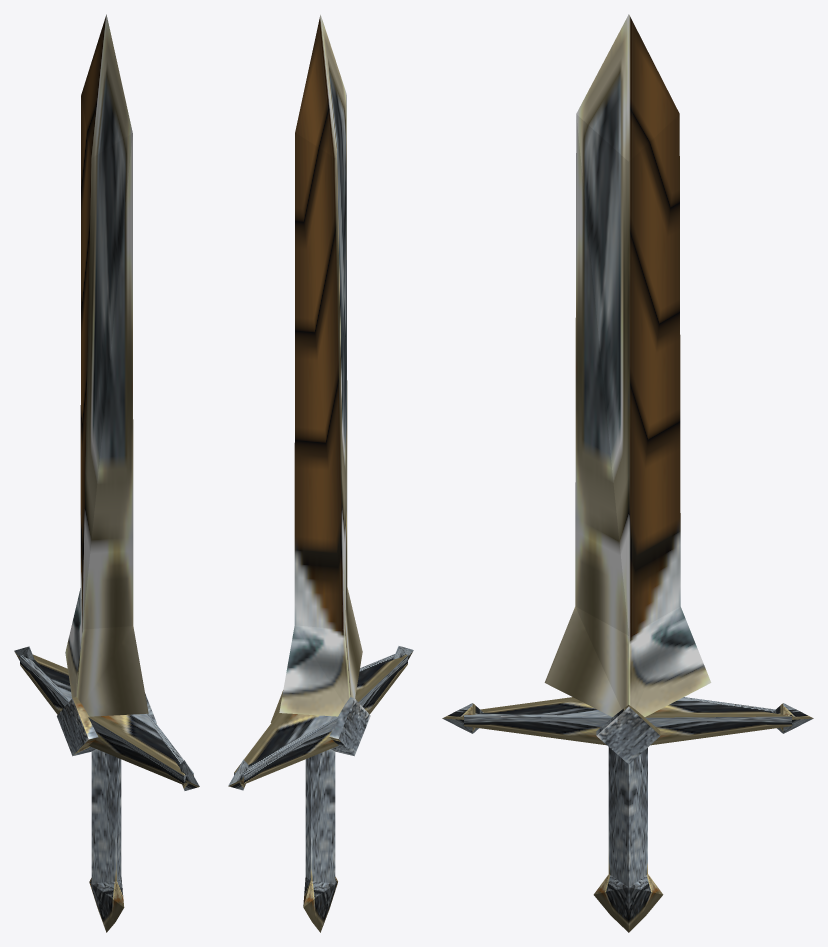
File: heavyblade00_1.obj
The picture shows the model from 3 angles, left to right: view 1: azimuth 30°, elevation 25°; view 2: azimuth 150°, elevation 25°; view 3: azimuth 270°, elevation 25°; orthographic projection.
Visible parts, largest first — view 1: heavyblade00_1; view 2: heavyblade00_1; view 3: heavyblade00_1.
Part boxes in pixels (<box>): heavyblade00_1: <box>14,14,199,932</box>; heavyblade00_1: <box>228,14,413,932</box>; heavyblade00_1: <box>442,14,813,932</box>.
Size of the model in its own units: 0.1025 by 1.32 by 0.485.
